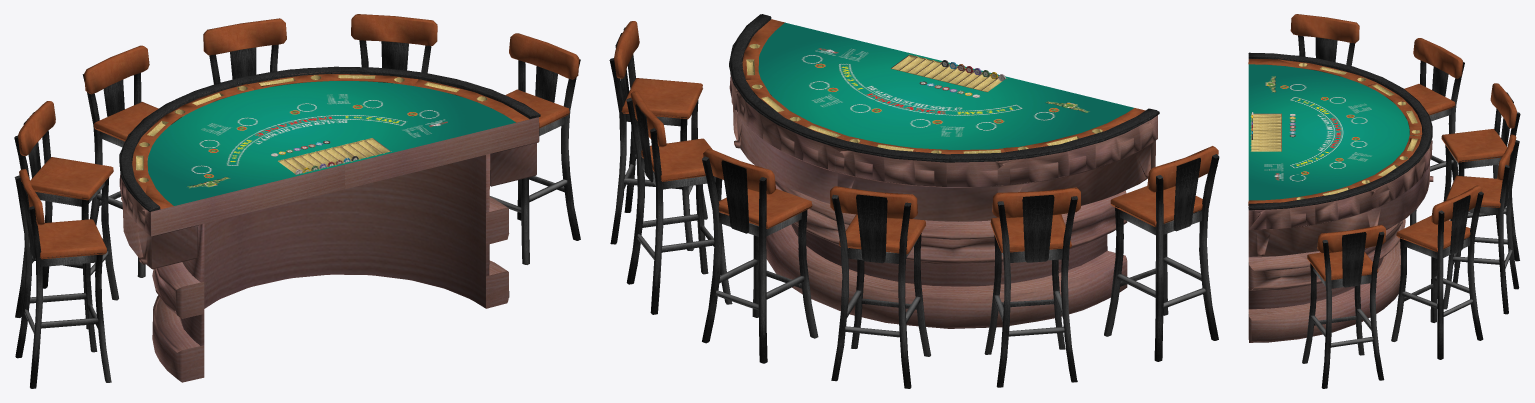
Rendered from blackjackMar.fbx.
3 renders of one model, left to right at view 1: azimuth 30°, elevation 25°; view 2: azimuth 150°, elevation 25°; view 3: azimuth 270°, elevation 25°, orthographic. The views are drawn at different scales.
Visible parts, largest first — view 1: Object_7; view 2: Object_7; view 3: Object_7.
Part boxes in pixels (<box>): Object_7: <box>14,14,580,388</box>; Object_7: <box>609,14,1219,388</box>; Object_7: <box>1248,14,1520,388</box>.
Bounding box in the file's own units: 85116 × 27017 × 43422.
Materials: 4 (4 with a texture image).
